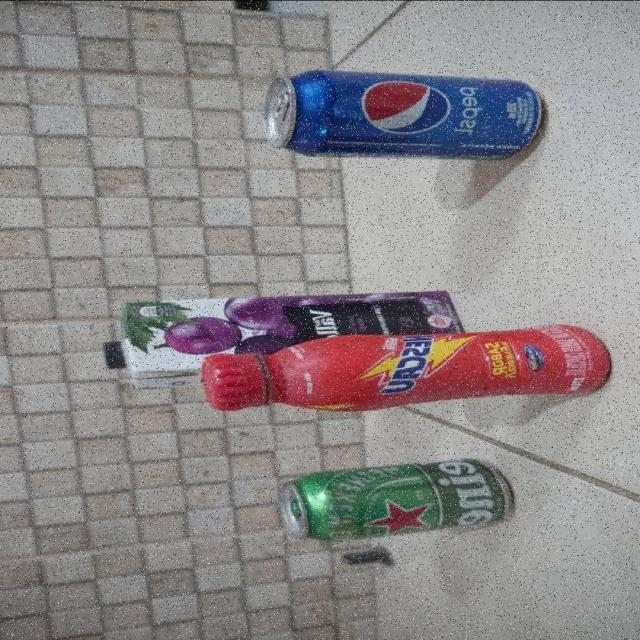BeerCan: (280, 458, 513, 544)
ChocolateMilk: (202, 324, 609, 413)
SodaCan: (264, 70, 543, 160)
